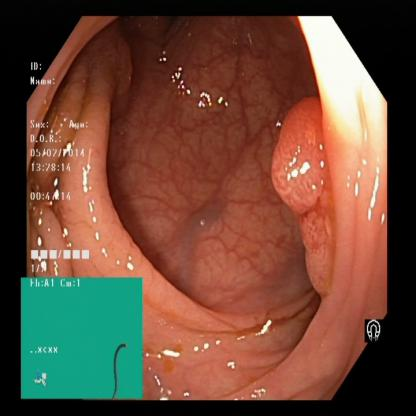Labels: (28, 54, 102, 276), (22, 275, 143, 398), (355, 301, 387, 352)
Polyps: (271, 101, 344, 294)
